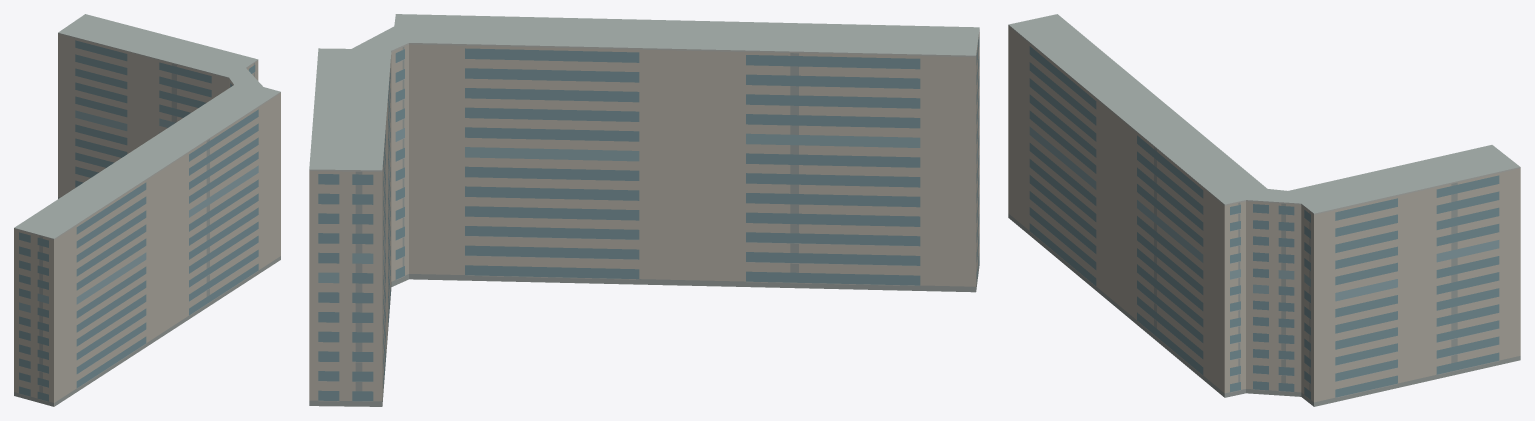
The model's file is residential-4a098209-78cc-43c7-a4bc-ab3b26d91e10.glb.
3 renders of one model, left to right at view 1: azimuth 30°, elevation 25°; view 2: azimuth 150°, elevation 25°; view 3: azimuth 270°, elevation 25°, orthographic. The views are drawn at different scales.
Visible parts, largest first — view 1: residential-4a098209-78cc-43c7-a4bc-ab3b26d91e10.tmp; view 2: residential-4a098209-78cc-43c7-a4bc-ab3b26d91e10.tmp; view 3: residential-4a098209-78cc-43c7-a4bc-ab3b26d91e10.tmp.
Part boxes in pixels (<box>): residential-4a098209-78cc-43c7-a4bc-ab3b26d91e10.tmp: <box>14,14,280,406</box>; residential-4a098209-78cc-43c7-a4bc-ab3b26d91e10.tmp: <box>309,14,979,406</box>; residential-4a098209-78cc-43c7-a4bc-ab3b26d91e10.tmp: <box>1008,14,1520,406</box>.
Bounding box in the file's own units: 81.09 × 36.6 × 87.89.
